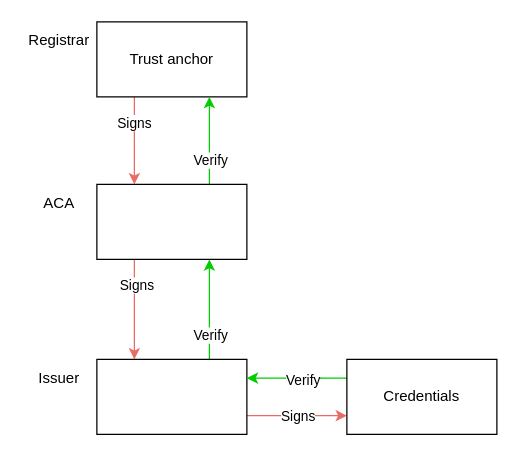
Some shapes in this 519 by 456 pixel diagram are drawn without their labels. The shapes that lost their labels are listed below. From the top down, each one's box as (x1, y1, x2, y2) in pixels, then its label:
(96, 183, 247, 259): Certificate Authority Certificate
(96, 358, 247, 434): Access Certificate
